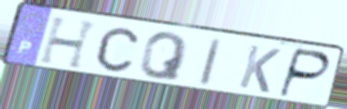C: (94, 26, 141, 74)
H: (37, 15, 102, 71)
I: (197, 37, 224, 89)
K: (236, 43, 284, 95)
P: (276, 47, 334, 100)
Q: (137, 31, 190, 83)
